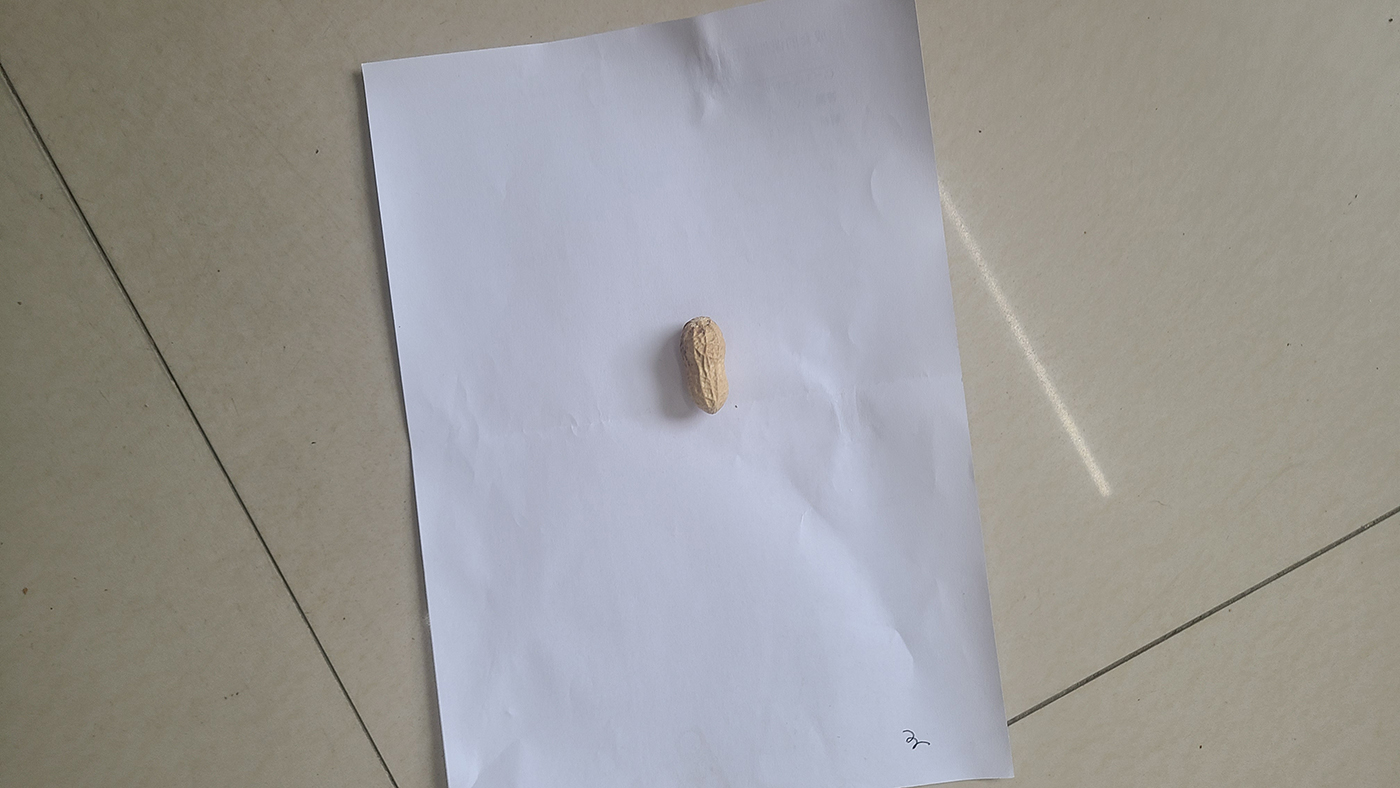h: (678, 314, 731, 416)
